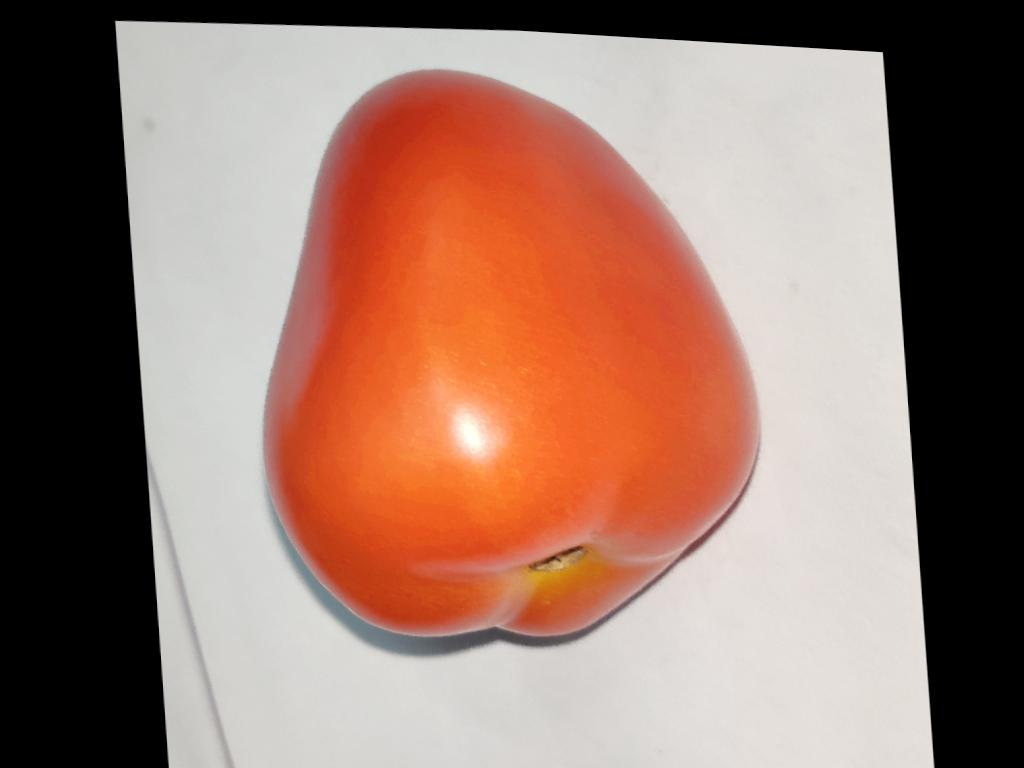tomato: (265, 69, 758, 634)
